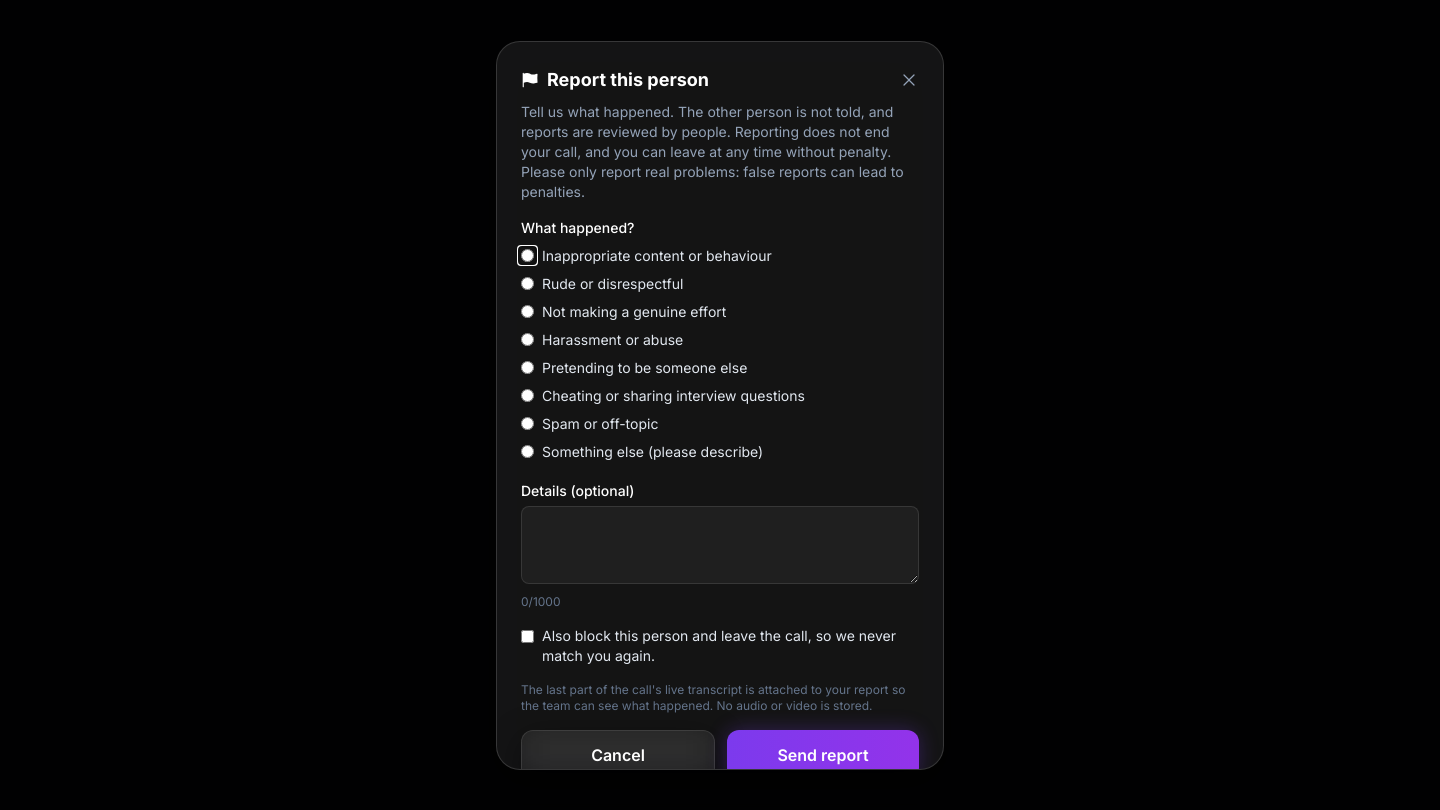
Test case: ReportDialog › offers the asked-for reasons, and "Something else" needs a description
Expected: the radio button labelled "Inappropriate content or behaviour" is shown, [521, 249, 534, 262]
Expected: the radio button labelled "Rude or disrespectful" is shown, [521, 277, 534, 290]
Click the radio button labelled "Something else (please describe)" at (528, 452), box [521, 445, 534, 458]
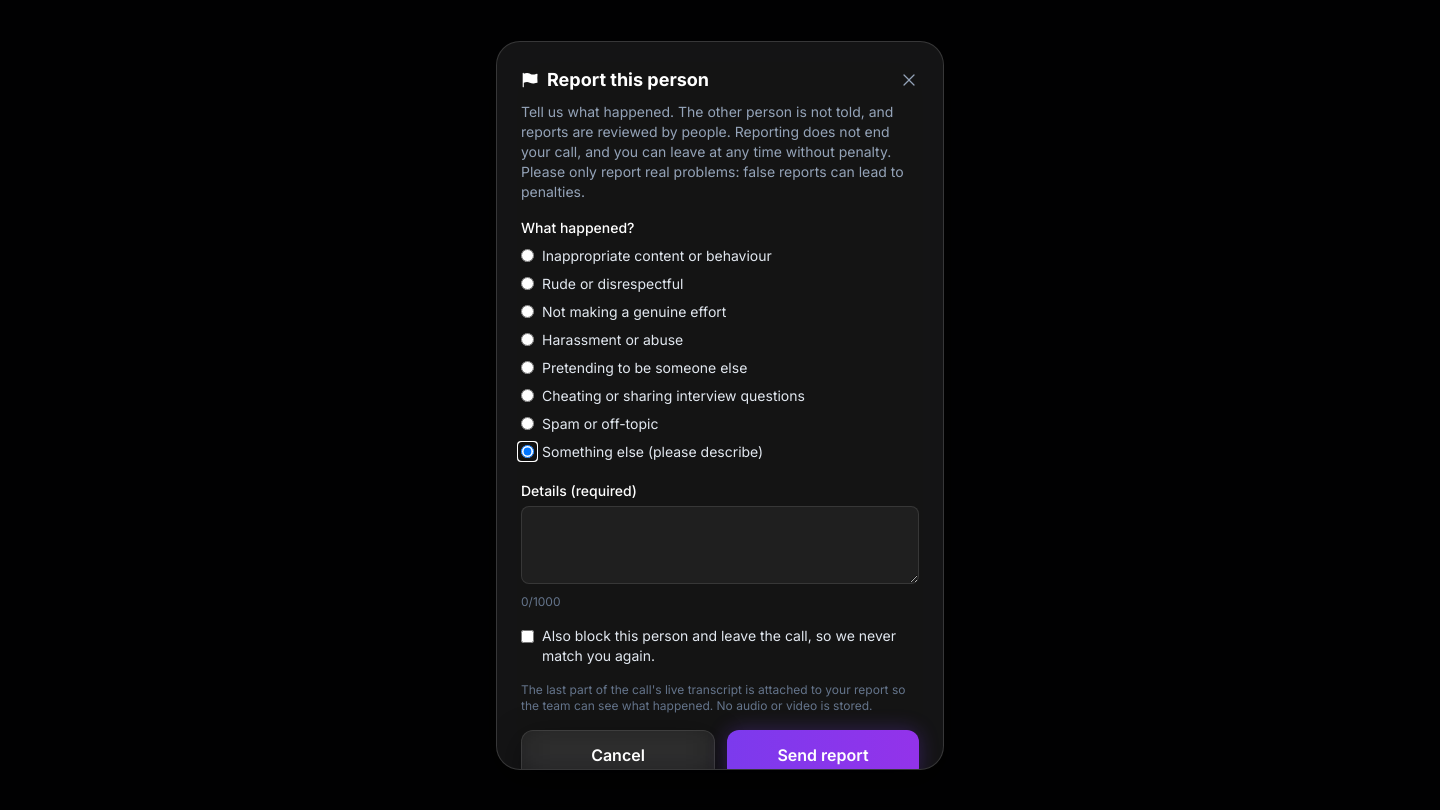
Expected: the text "Details (required)" is shown, [521, 482, 637, 498]
Click the button "Send report" at (823, 754), box [727, 730, 919, 780]
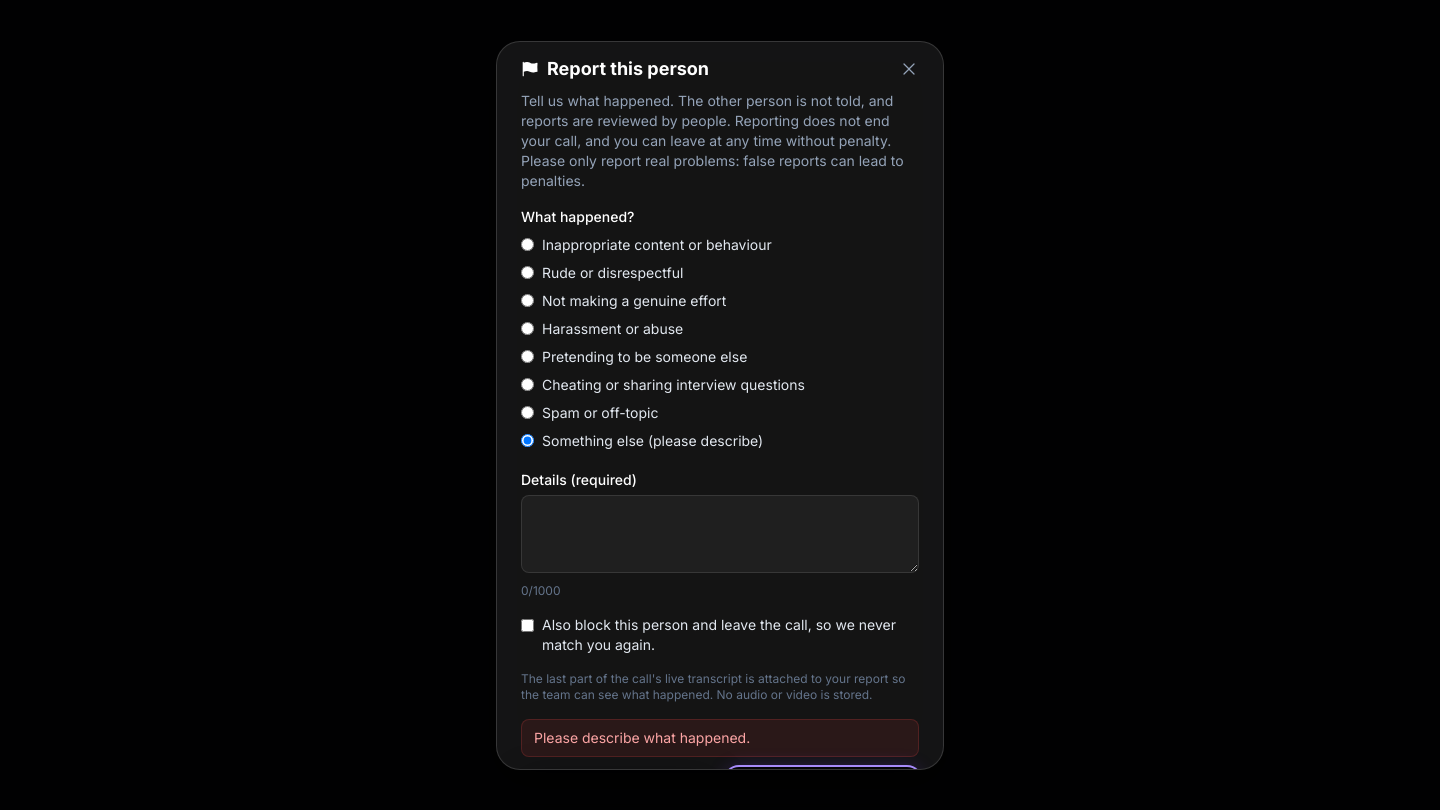
Expected: the message shows "describe what happened", [534, 728, 750, 746]
Type "They shared a real question" into the text box labelled "Details (required)" at (720, 534), box [521, 494, 919, 572]
(page scrolled)
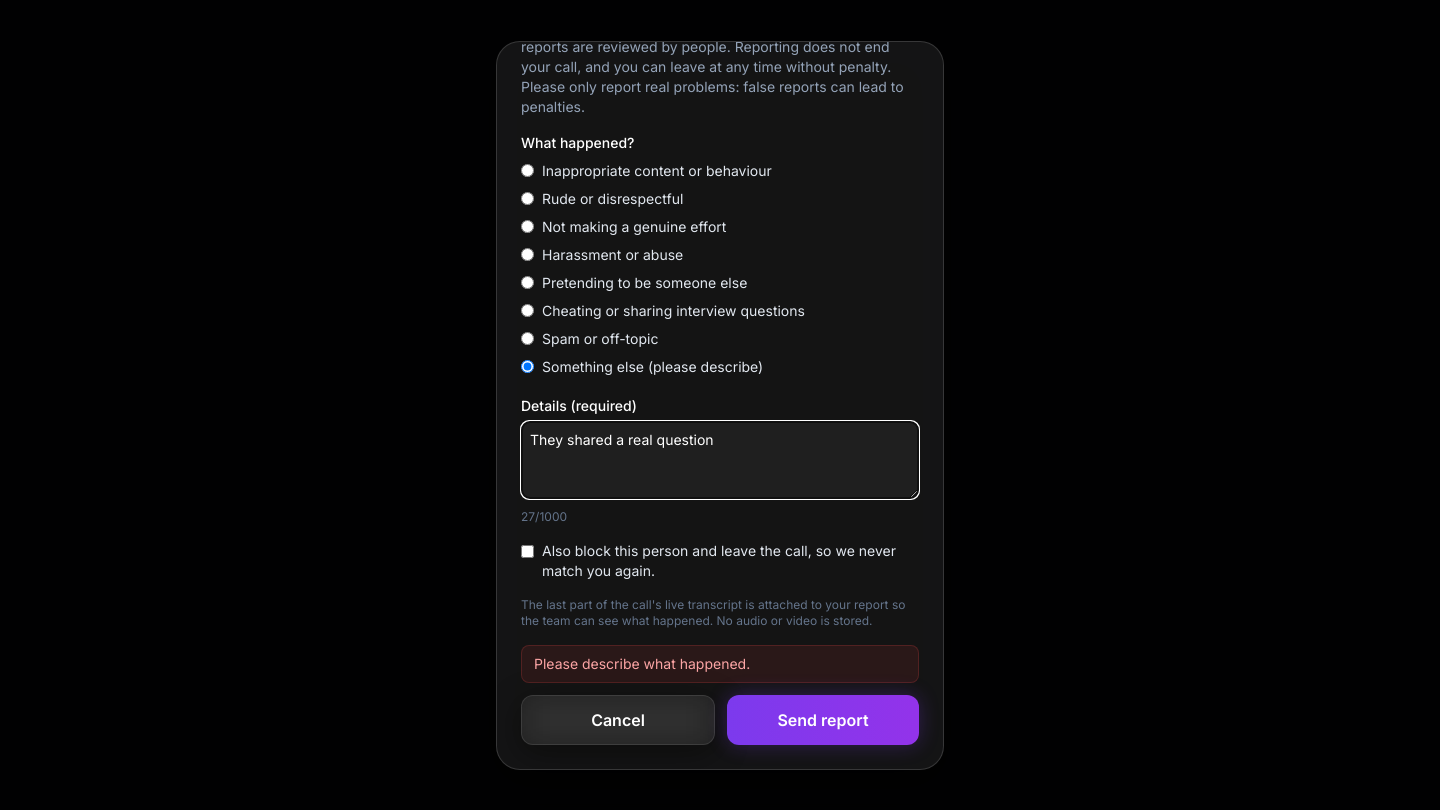
Click the button "Send report" at (823, 720), box [727, 694, 919, 744]
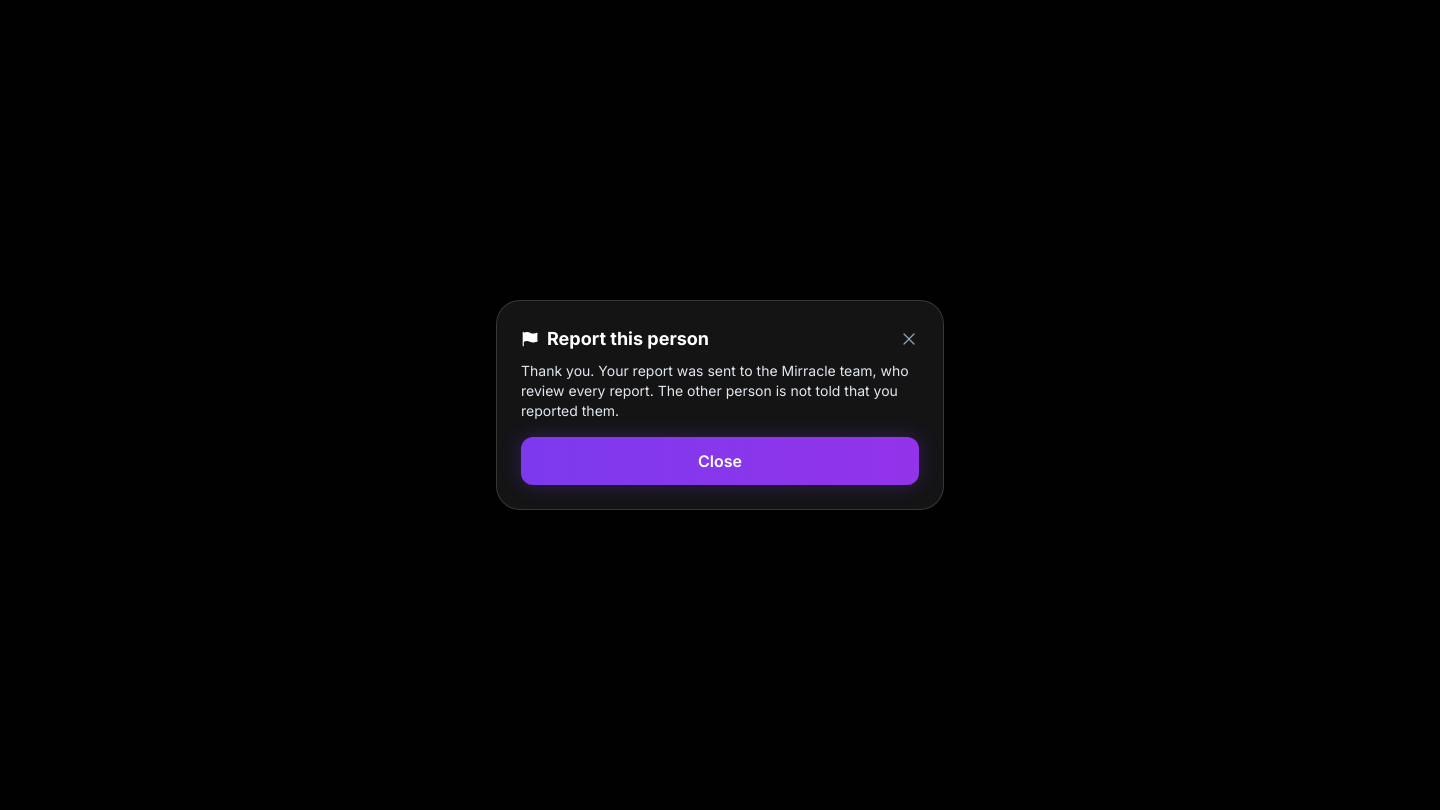
Expected: the message is shown, [521, 361, 919, 485]
